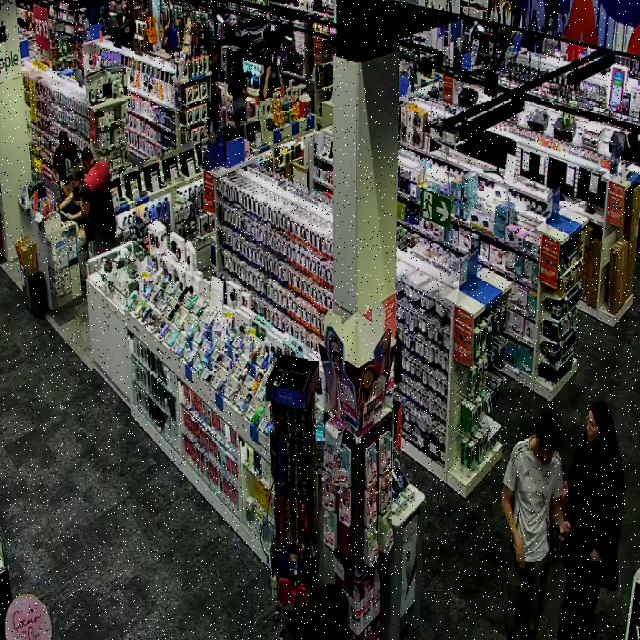hands: (556, 522, 572, 542), (515, 546, 525, 570), (587, 549, 602, 562)
person: (557, 401, 624, 639), (502, 413, 570, 639), (83, 148, 116, 253), (54, 130, 79, 199)
